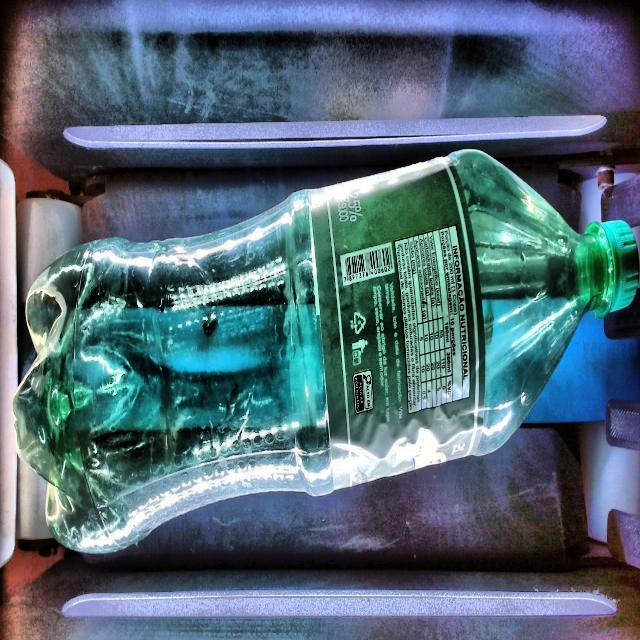bottle: (15, 150, 640, 551)
